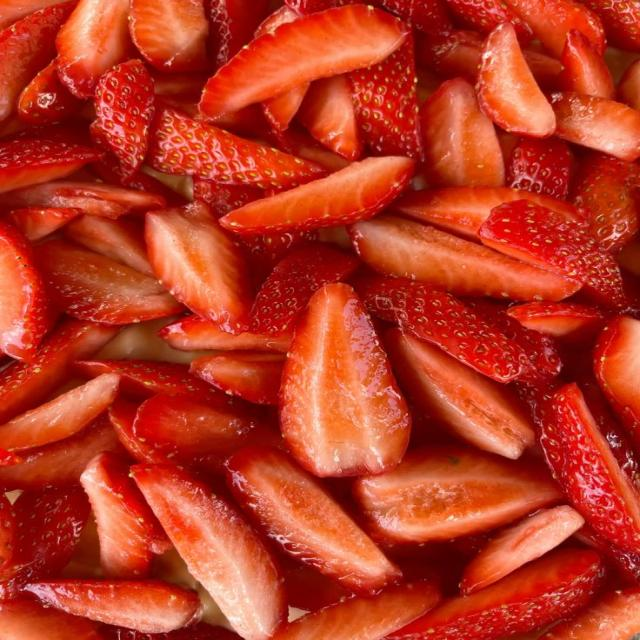strawberry sliced: (134, 466, 286, 639), (227, 447, 399, 593), (280, 284, 410, 476), (200, 5, 407, 118), (354, 446, 561, 543), (350, 215, 580, 300), (390, 549, 604, 639), (386, 329, 534, 459), (357, 276, 526, 382), (540, 383, 639, 550), (479, 200, 626, 307), (220, 156, 414, 235), (147, 107, 325, 188), (146, 201, 250, 333), (35, 240, 183, 324), (0, 320, 119, 423), (132, 395, 277, 473), (460, 505, 584, 594), (80, 453, 163, 579), (393, 186, 586, 240), (249, 243, 359, 335), (0, 488, 89, 598), (274, 581, 439, 639), (567, 353, 638, 484), (420, 78, 505, 187), (25, 580, 199, 633), (0, 374, 119, 450), (349, 36, 422, 159), (0, 417, 121, 490), (478, 23, 555, 137), (0, 2, 73, 121), (466, 299, 561, 386), (0, 221, 53, 361), (56, 0, 131, 98), (93, 61, 153, 176), (573, 154, 639, 252), (551, 92, 639, 162), (0, 181, 166, 218), (76, 361, 219, 402), (594, 316, 639, 446), (129, 0, 208, 73), (506, 0, 605, 56), (298, 75, 362, 161), (63, 216, 154, 276), (0, 139, 101, 193), (190, 351, 284, 405), (542, 588, 639, 639), (236, 230, 319, 288), (159, 316, 292, 352), (92, 156, 183, 205), (0, 598, 104, 639), (507, 302, 608, 344), (18, 61, 82, 125), (279, 555, 351, 611), (208, 0, 268, 67), (507, 138, 571, 200), (574, 525, 639, 586), (559, 30, 615, 99), (447, 0, 532, 45), (272, 126, 348, 172), (416, 30, 483, 82), (194, 176, 265, 219), (108, 398, 155, 462), (584, 0, 639, 52), (372, 0, 451, 33), (373, 0, 452, 33), (7, 208, 81, 242), (242, 5, 299, 45), (101, 623, 241, 639), (263, 83, 308, 131), (0, 0, 57, 30), (0, 494, 17, 574), (618, 61, 639, 109), (0, 449, 22, 466)
